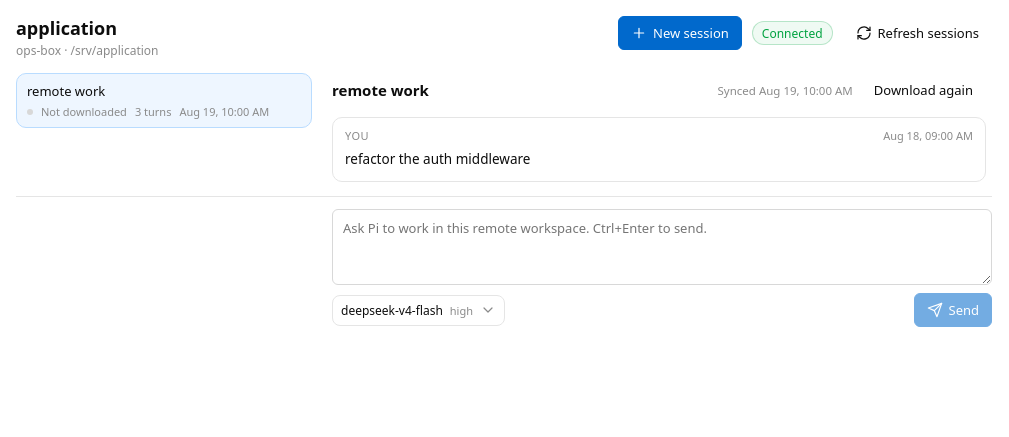
it: remote session reader › a pending existing-session prompt refreshes its transcript when the operation settles
Check: the text "refactor the auth middleware" is shown, box [345,150,530,168]
Type "finish this turn" into the text box named "Remote prompt" at (662, 247), box [332,209,992,285]
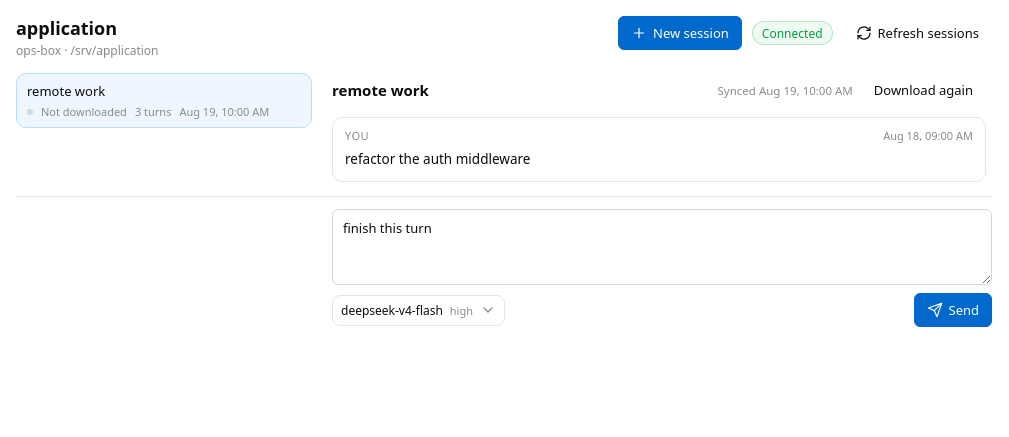
Click the button "Send" at (953, 310), box [914,293,992,327]
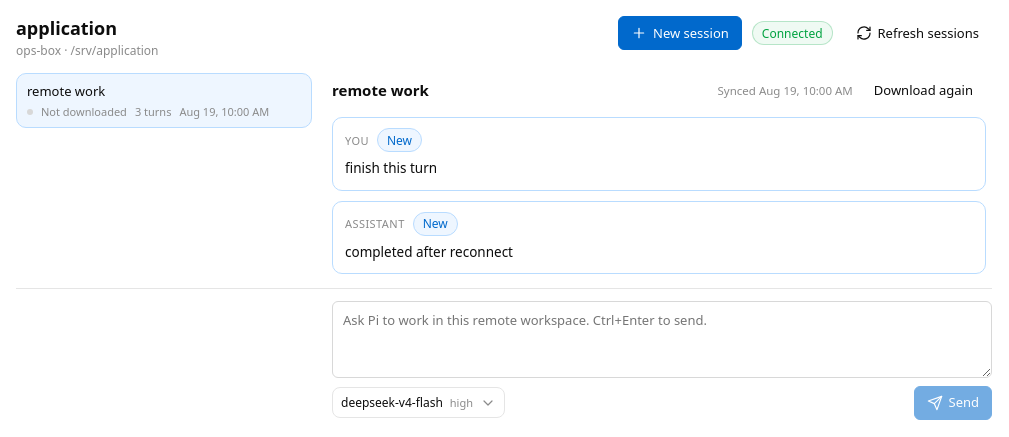
Check: the text "completed after reconnect" is shown, box [345,243,513,261]
